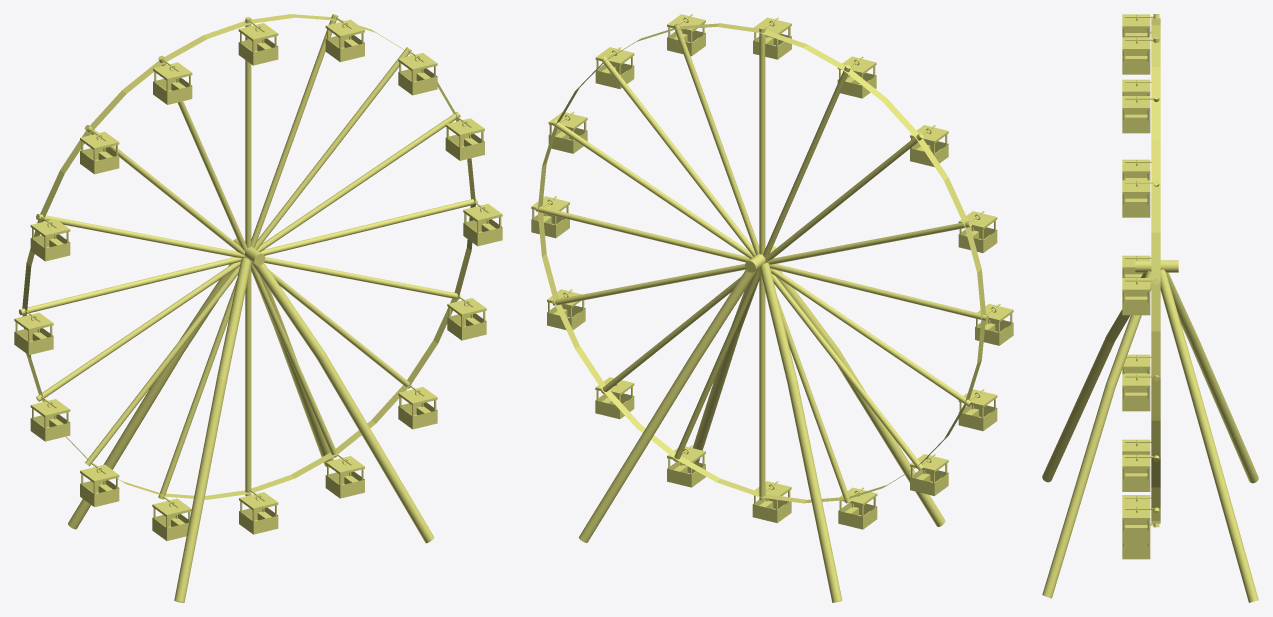
The model's file is ferris_wheel.glb.
3 views of the same model, side by side, from view 1: azimuth 30°, elevation 25°; view 2: azimuth 150°, elevation 25°; view 3: azimuth 270°, elevation 25° (orthographic). The views are drawn at different scales.
Visible parts, largest first — view 1: wheel, support_front, support_back, carriage.011, carriage.008, carriage.013, carriage.004, carriage.002, carriage.012, carriage.003, carriage.005, carriage.010 (+7 smaller); view 2: wheel, support_back, support_front, carriage.014, carriage.015, carriage.013, carriage.012, carriage.006, carriage, carriage.011, carriage.007, carriage.010 (+7 smaller); view 3: support_back, support_front, wheel, carriage.002, carriage.006, carriage.008, carriage.003, carriage.007, carriage.004, carriage.005, carriage.009, carriage.012 (+7 smaller).
Boxes of the visible parts, x1,y1,x2,y2 form: wheel: (19, 14, 477, 499); support_front: (174, 258, 434, 602); support_back: (68, 263, 333, 529); carriage.011: (30, 216, 70, 261); carriage.008: (238, 20, 278, 65); carriage.013: (30, 396, 70, 441); carriage.004: (463, 201, 502, 246); carriage.002: (398, 384, 437, 429); carriage.012: (14, 310, 53, 354); carriage.003: (447, 296, 486, 340); carriage.005: (445, 116, 484, 160); carriage.010: (80, 129, 119, 174); wheel: (535, 23, 988, 503); support_back: (579, 262, 842, 602); support_front: (692, 270, 945, 526); carriage.014: (910, 454, 948, 495); carriage.015: (838, 487, 877, 529); carriage.013: (958, 389, 997, 430); carriage.012: (975, 303, 1013, 345); carriage.006: (595, 47, 634, 88); carriage: (752, 481, 791, 523); carriage.011: (958, 211, 997, 252); carriage.007: (667, 14, 705, 56); carriage.010: (910, 125, 948, 166); support_back: (1160, 269, 1258, 602); support_front: (1042, 271, 1151, 598); wheel: (1151, 14, 1160, 527); carriage.002: (1122, 506, 1153, 543); carriage.006: (1122, 180, 1153, 217); carriage.008: (1122, 37, 1153, 74); carriage.003: (1122, 454, 1153, 491); carriage.007: (1122, 96, 1153, 133); carriage.004: (1122, 374, 1153, 411); carriage.005: (1122, 278, 1153, 315); carriage.009: (1122, 14, 1153, 37); carriage.012: (1122, 159, 1151, 180).
Bounding box in the file's own units: 37.99 × 39.53 × 15.41.
